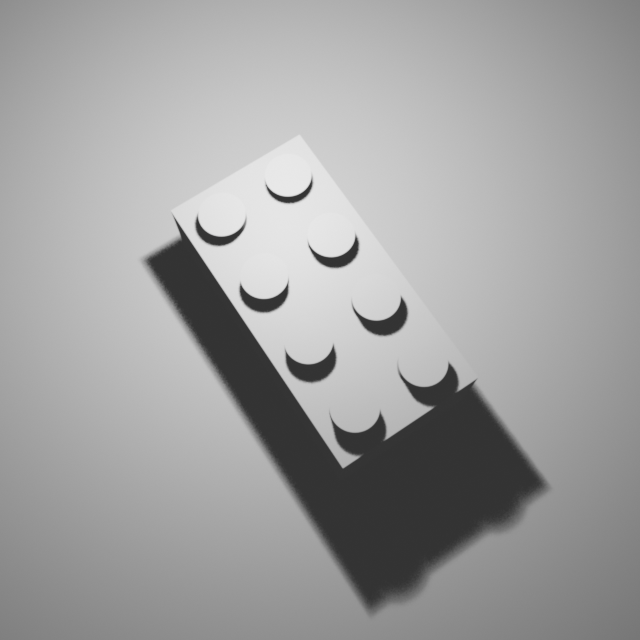lego_2x4: (168, 127, 481, 481)
